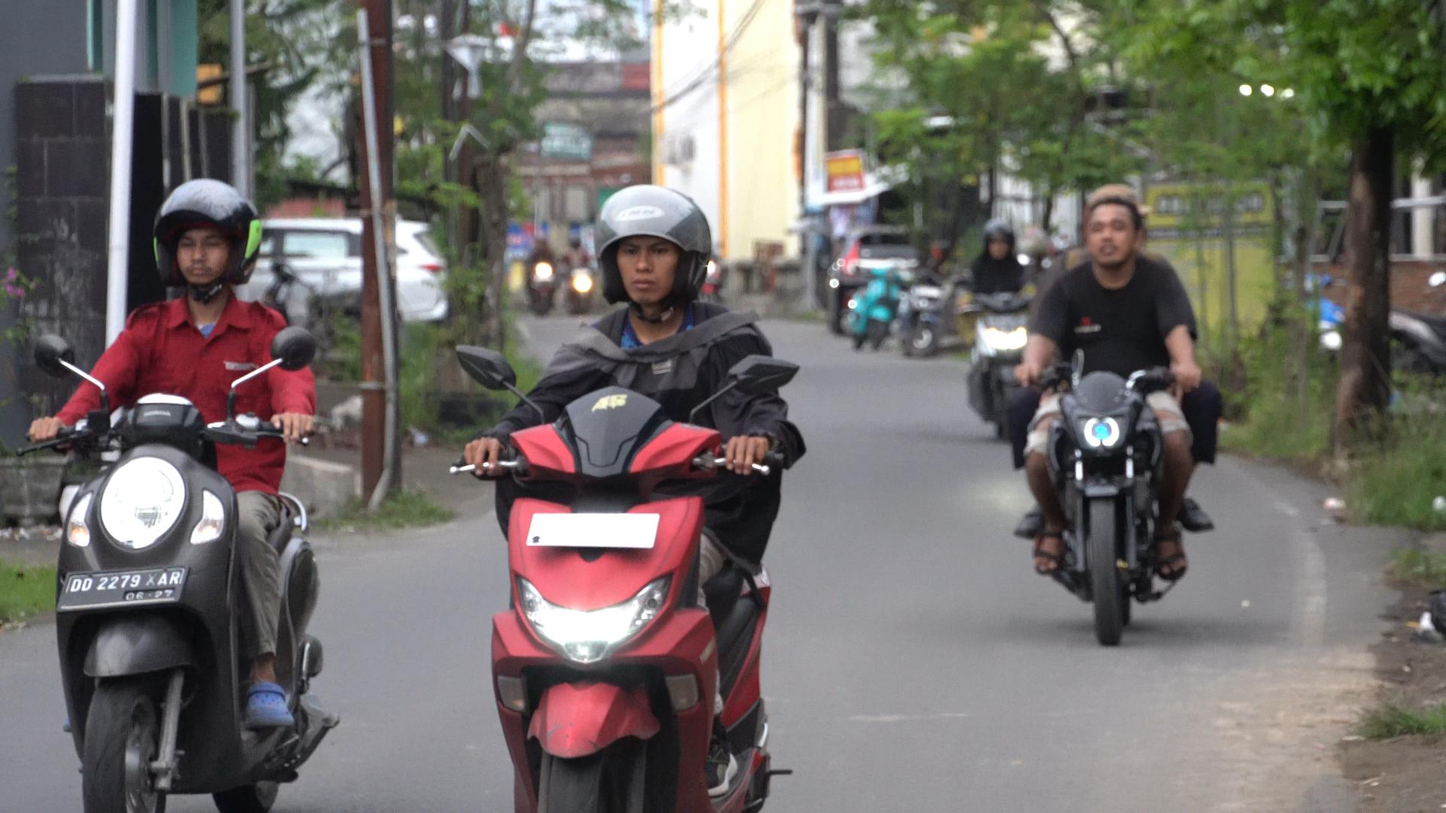number-plate: (54, 562, 189, 611)
